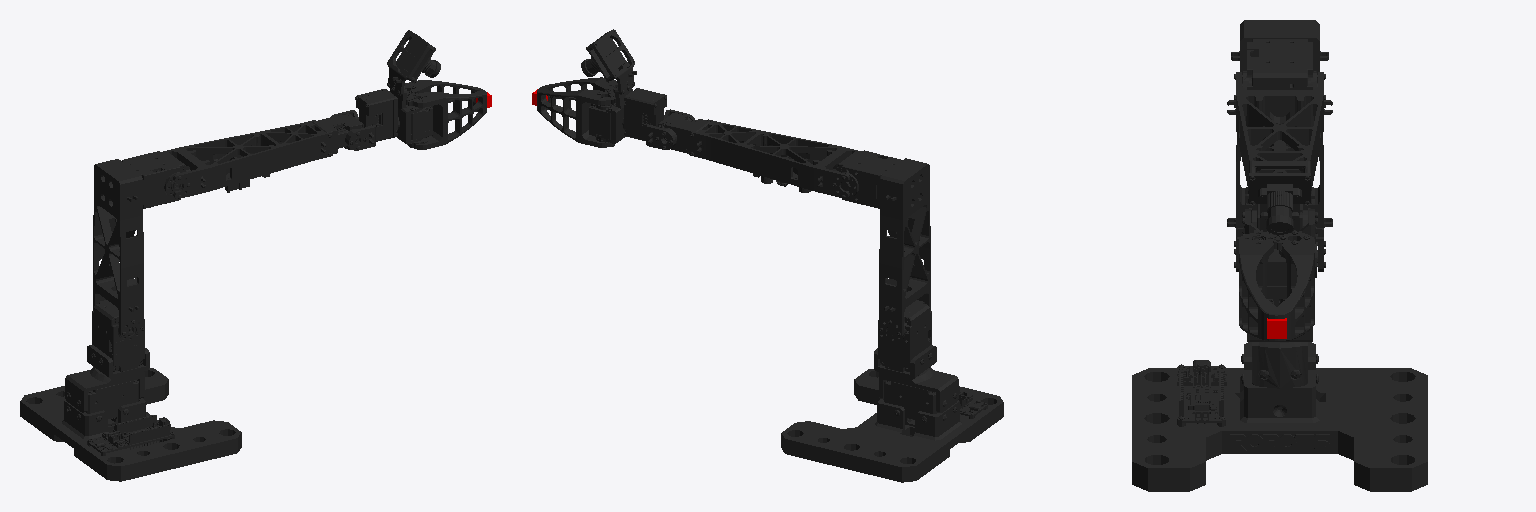
The robot description file, URDF, robot "omx_f":
<?xml version="1.0" ?>
<!-- =================================================================================== -->
<!-- |    This document was autogenerated by xacro from omx_f.urdf.xacro               | -->
<!-- |    EDITING THIS FILE BY HAND IS NOT RECOMMENDED                                 | -->
<!-- =================================================================================== -->
<robot name="omx_f">
  <link name="world"/>
  <joint name="world_fixed" type="fixed">
    <parent link="world"/>
    <child link="link0"/>
    <origin rpy="0 0 0" xyz="0.0 0.0 0.0"/>
  </joint>
  <joint name="end_effector_joint" type="fixed">
    <parent link="link5"/>
    <child link="end_effector_link"/>
    <origin rpy="0 0 0" xyz="0.09193 -0.0016 0"/>
  </joint>
  <link name="end_effector_link">
    <visual>
      <origin rpy="0 0 0" xyz="0 0 0"/>
      <geometry>
        <box size="0.01 0.01 0.01"/>
      </geometry>
      <material name="red">
        <color rgba="1.0 0.0 0.0 1"/>
      </material>
    </visual>
  </link>
  <link name="link0">
    <visual>
      <origin rpy="0 0 0" xyz="0 0 0"/>
      <geometry>
        <mesh filename="package://open_manipulator_description/meshes/omx_f/follower_01_base.stl" scale="0.001 0.001 0.001"/>
      </geometry>
      <material name="grey">
        <color rgba="0.2 0.2 0.2 1"/>
      </material>
    </visual>
    <collision>
      <origin rpy="0 0 0" xyz="0 0 0"/>
      <geometry>
        <mesh filename="package://open_manipulator_description/meshes/omx_f/follower_01_base.stl" scale="0.001 0.001 0.001"/>
      </geometry>
      <material name="grey">
        <color rgba="0.2 0.2 0.2 1"/>
      </material>
    </collision>
    <inertial>
      <origin xyz="-1.441250800e-02 -3.149887900e-03 1.927659900e-02"/>
      <mass value="2.238905100e-01"/>
      <inertia ixx="3.568046100e-04" ixy="-3.297178900e-06" ixz="1.907676700e-05" iyy="2.194193200e-04" iyz="1.407164200e-06" izz="4.557589900e-04"/>
    </inertial>
  </link>
  <joint name="joint1" type="revolute">
    <parent link="link0"/>
    <child link="link1"/>
    <origin rpy="0 0 0" xyz="-0.01125 0 0.034"/>
    <axis xyz="0 0 1"/>
    <limit effort="1000" lower="-6.283185307179586" upper="6.283185307179586" velocity="4.8"/>
    <dynamics damping="0.05"/>
  </joint>
  <link name="link1">
    <visual>
      <origin rpy="0 0 0" xyz="0 0 0"/>
      <geometry>
        <mesh filename="package://open_manipulator_description/meshes/omx_f/follower_02_base_tilt_Revised.stl" scale="0.001 0.001 0.001"/>
      </geometry>
      <material name="grey">
        <color rgba="0.2 0.2 0.2 1"/>
      </material>
    </visual>
    <collision>
      <origin rpy="0 0 0" xyz="0 0 0"/>
      <geometry>
        <mesh filename="package://open_manipulator_description/meshes/omx_f/follower_02_base_tilt_Revised.stl" scale="0.001 0.001 0.001"/>
      </geometry>
      <material name="grey">
        <color rgba="0.2 0.2 0.2 1"/>
      </material>
    </collision>
    <inertial>
      <origin xyz="-6.223620500e-06 6.049232000e-04 4.741880300e-02"/>
      <mass value="6.598704100e-02"/>
      <inertia ixx="2.173166700e-05" ixy="-7.670221200e-09" ixz="6.604697700e-09" iyy="2.135151300e-05" iyz="-3.790671700e-07" izz="1.165795500e-05"/>
    </inertial>
  </link>
  <joint name="joint2" type="revolute">
    <parent link="link1"/>
    <child link="link2"/>
    <origin rpy="0 0 0" xyz="0 0 0.0635"/>
    <axis xyz="0 1 0"/>
    <limit effort="1000" lower="-6.283185307179586" upper="6.283185307179586" velocity="4.8"/>
    <dynamics damping="0.1"/>
  </joint>
  <link name="link2">
    <visual>
      <origin rpy="0 0 0" xyz="0 0 0"/>
      <geometry>
        <mesh filename="package://open_manipulator_description/meshes/omx_f/follower_03_middle_verticle.stl" scale="0.001 0.001 0.001"/>
      </geometry>
      <material name="grey">
        <color rgba="0.2 0.2 0.2 1"/>
      </material>
    </visual>
    <collision>
      <origin rpy="0 0 0" xyz="0 0 0"/>
      <geometry>
        <mesh filename="package://open_manipulator_description/meshes/omx_f/follower_03_middle_verticle.stl" scale="0.001 0.001 0.001"/>
      </geometry>
      <material name="grey">
        <color rgba="0.2 0.2 0.2 1"/>
      </material>
    </collision>
    <inertial>
      <origin xyz="1.808991600e-02 2.977875800e-04 9.900545200e-02"/>
      <mass value="8.722147100e-02"/>
      <inertia ixx="1.030791500e-04" ixy="-9.237869700e-07" ixz="-2.259657800e-05" iyy="1.208632700e-04" iyz="-1.937414500e-06" izz="4.199367700e-05"/>
    </inertial>
  </link>
  <joint name="joint3" type="revolute">
    <parent link="link2"/>
    <child link="link3"/>
    <origin rpy="0 0 0" xyz="0.0415 0 0.11315"/>
    <axis xyz="0 1 0"/>
    <limit effort="1000" lower="-6.283185307179586" upper="6.283185307179586" velocity="4.8"/>
    <dynamics damping="0.1"/>
  </joint>
  <link name="link3">
    <visual>
      <origin rpy="0 0 0" xyz="0 0 0"/>
      <geometry>
        <mesh filename="package://open_manipulator_description/meshes/omx_f/follower_04_middle_horizontal.stl" scale="0.001 0.001 0.001"/>
      </geometry>
      <material name="grey">
        <color rgba="0.2 0.2 0.2 1"/>
      </material>
    </visual>
    <collision>
      <origin rpy="0 0 0" xyz="0 0 0"/>
      <geometry>
        <mesh filename="package://open_manipulator_description/meshes/omx_f/follower_04_middle_horizontal.stl" scale="0.001 0.001 0.001"/>
      </geometry>
      <material name="grey">
        <color rgba="0.2 0.2 0.2 1"/>
      </material>
    </collision>
    <inertial>
      <origin xyz="8.739860200e-02 4.131006500e-04 -3.582921000e-03"/>
      <mass value="8.375912900e-02"/>
      <inertia ixx="1.520310100e-05" ixy="-5.856958300e-07" ixz="-8.201398200e-06" iyy="2.260615800e-04" iyz="4.169928000e-07" izz="2.306688700e-04"/>
    </inertial>
  </link>
  <joint name="joint4" type="revolute">
    <parent link="link3"/>
    <child link="link4"/>
    <origin rpy="0 0 0" xyz="0.162 0 0"/>
    <axis xyz="0 1 0"/>
    <limit effort="1000" lower="-6.283185307179586" upper="6.283185307179586" velocity="4.8"/>
    <dynamics damping="0.1"/>
  </joint>
  <link name="link4">
    <visual>
      <origin rpy="0 0 0" xyz="0 0 0"/>
      <geometry>
        <mesh filename="package://open_manipulator_description/meshes/omx_f/follower_05_tip.stl" scale="0.001 0.001 0.001"/>
      </geometry>
      <material name="grey">
        <color rgba="0.2 0.2 0.2 1"/>
      </material>
    </visual>
    <collision>
      <origin rpy="0 0 0" xyz="0 0 0"/>
      <geometry>
        <mesh filename="package://open_manipulator_description/meshes/omx_f/follower_05_tip.stl" scale="0.001 0.001 0.001"/>
      </geometry>
      <material name="grey">
        <color rgba="0.2 0.2 0.2 1"/>
      </material>
    </collision>
    <inertial>
      <origin xyz="2.323498000e-02 6.773537800e-05 5.976131200e-03"/>
      <mass value="2.997506300e-02"/>
      <inertia ixx="5.099513000e-06" ixy="2.633166800e-08" ixz="-7.760319700e-07" iyy="7.099047100e-06" iyz="1.637967900e-09" izz="6.311949500e-06"/>
    </inertial>
  </link>
  <joint name="joint5" type="revolute">
    <parent link="link4"/>
    <child link="link5"/>
    <origin rpy="0 0 0" xyz="0.0287 0 0"/>
    <axis xyz="1 0 0"/>
    <limit effort="1000" lower="-6.283185307179586" upper="6.283185307179586" velocity="4.8"/>
    <dynamics damping="0.1"/>
  </joint>
  <link name="link5">
    <visual>
      <origin rpy="0 0 0" xyz="0 0 0"/>
      <geometry>
        <mesh filename="package://open_manipulator_description/meshes/omx_f/follower_06_pan_Revised.stl" scale="0.001 0.001 0.001"/>
      </geometry>
      <material name="grey">
        <color rgba="0.2 0.2 0.2 1"/>
      </material>
    </visual>
    <collision>
      <origin rpy="0 0 0" xyz="0 0 0"/>
      <geometry>
        <mesh filename="package://open_manipulator_description/meshes/omx_f/follower_06_pan_Revised.stl" scale="0.001 0.001 0.001"/>
      </geometry>
      <material name="grey">
        <color rgba="0.2 0.2 0.2 1"/>
      </material>
    </collision>
    <inertial>
      <origin xyz="2.807240700e-02 2.413594100e-05 1.352891400e-02"/>
      <mass value="4.381088700e-02"/>
      <inertia ixx="2.369445900e-05" ixy="-2.614252600e-08" ixz="-2.939284100e-06" iyy="2.323692400e-05" iyz="7.543040500e-08" izz="7.180629100e-06"/>
    </inertial>
  </link>
  <joint name="gripper_joint_1" type="revolute">
    <parent link="link5"/>
    <child link="link6"/>
    <origin rpy="0 0 0" xyz="0.0295 0.0075 0"/>
    <axis xyz="0 0 1"/>
    <limit effort="1000" lower="-6.283185307179586" upper="6.283185307179586" velocity="4.8"/>
    <dynamics damping="0.1"/>
  </joint>
  <link name="link6">
    <visual>
      <origin rpy="0 0 0" xyz="0 0 0"/>
      <geometry>
        <mesh filename="package://open_manipulator_description/meshes/omx_f/follower_07_gripper_motorized.stl" scale="0.001 0.001 0.001"/>
      </geometry>
      <material name="grey">
        <color rgba="0.2 0.2 0.2 1"/>
      </material>
    </visual>
    <collision>
      <origin rpy="0 0 0" xyz="0 0 0"/>
      <geometry>
        <mesh filename="package://open_manipulator_description/meshes/omx_f/follower_07_gripper_motorized.stl" scale="0.001 0.001 0.001"/>
      </geometry>
      <material name="grey">
        <color rgba="0.2 0.2 0.2 1"/>
      </material>
    </collision>
    <inertial>
      <origin xyz="1.616456500e-02 1.273103200e-03 2.729159800e-04"/>
      <mass value="1.209067700e-02"/>
      <inertia ixx="2.708328700e-06" ixy="1.397245300e-07" ixz="5.888794300e-08" iyy="6.873372800e-06" iyz="1.537070800e-08" izz="4.694188100e-06"/>
    </inertial>
  </link>
  <joint name="gripper_joint_2" type="revolute">
    <parent link="link5"/>
    <child link="link7"/>
    <origin rpy="0 0 0" xyz="0.0295 -0.0108 0"/>
    <axis xyz="0 0 1"/>
    <limit effort="1000" lower="-6.283185307179586" upper="6.283185307179586" velocity="4.8"/>
    <dynamics damping="0.1"/>
    <mimic joint="gripper_joint_1" multiplier="-1"/>
  </joint>
  <link name="link7">
    <visual>
      <origin rpy="0 0 0" xyz="0 0 0"/>
      <geometry>
        <mesh filename="package://open_manipulator_description/meshes/omx_f/follower_08_gripper_gear.stl" scale="0.001 0.001 0.001"/>
      </geometry>
      <material name="grey">
        <color rgba="0.2 0.2 0.2 1"/>
      </material>
    </visual>
    <collision>
      <origin rpy="0 0 0" xyz="0 0 0"/>
      <geometry>
        <mesh filename="package://open_manipulator_description/meshes/omx_f/follower_08_gripper_gear.stl" scale="0.001 0.001 0.001"/>
      </geometry>
      <material name="grey">
        <color rgba="0.2 0.2 0.2 1"/>
      </material>
    </collision>
    <inertial>
      <origin xyz="1.616456500e-02 1.273103200e-03 2.729159800e-04"/>
      <mass value="1.209067700e-02"/>
      <inertia ixx="2.708328700e-06" ixy="1.397245300e-07" ixz="5.888794300e-08" iyy="6.873372800e-06" iyz="1.537070800e-08" izz="4.694188100e-06"/>
    </inertial>
  </link>
</robot>

--- Facts derived from the render (not from the file) ---
The picture shows the robot from 3 angles, left to right: view 1: azimuth 30°, elevation 25°; view 2: azimuth 150°, elevation 25°; view 3: azimuth 270°, elevation 25°; orthographic projection.
Robot: omx_f — 10 links, 9 joints (7 revolute, 2 fixed); root link world; default pose: all joints at 0.
Links seen in each view (by area): view 1: link0, link2, link3, link5, link1, link7, link4, link6; view 2: link0, link2, link3, link5, link1, link6, link4, link7; view 3: link0, link2, link3, link5, link6, link7, link4.
Link boxes in pixels (<box>): link0: <box>20,367,241,481</box>; link2: <box>93,151,186,341</box>; link3: <box>163,113,363,198</box>; link5: <box>387,30,440,144</box>; link1: <box>87,300,149,379</box>; link7: <box>406,91,486,149</box>; link4: <box>331,89,397,150</box>; link6: <box>399,80,484,139</box>; link0: <box>781,367,1003,482</box>; link2: <box>837,150,930,337</box>; link3: <box>658,113,862,198</box>; link5: <box>581,29,636,143</box>; link1: <box>874,300,936,379</box>; link6: <box>537,88,615,147</box>; link4: <box>624,88,694,149</box>; link7: <box>540,77,617,110</box>; link0: <box>1132,342,1427,491</box>; link2: <box>1227,20,1332,271</box>; link3: <box>1227,71,1332,229</box>; link5: <box>1249,161,1310,298</box>; link6: <box>1275,230,1314,340</box>; link7: <box>1239,230,1278,340</box>; link4: <box>1236,209,1323,243</box>.
Size in the robot's own frame: 0.3779 by 0.15 by 0.2771 metres.
Meshes: 8 distinct files referenced, 8 mesh visuals loaded (8 binary STL).